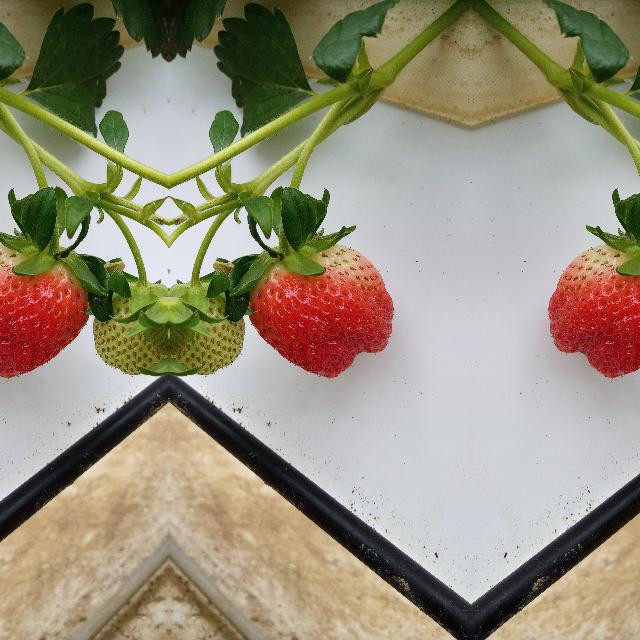Health_100: (248, 244, 394, 378), (546, 243, 640, 378), (0, 243, 88, 378)
Health_25: (169, 282, 239, 384), (97, 282, 167, 384)
